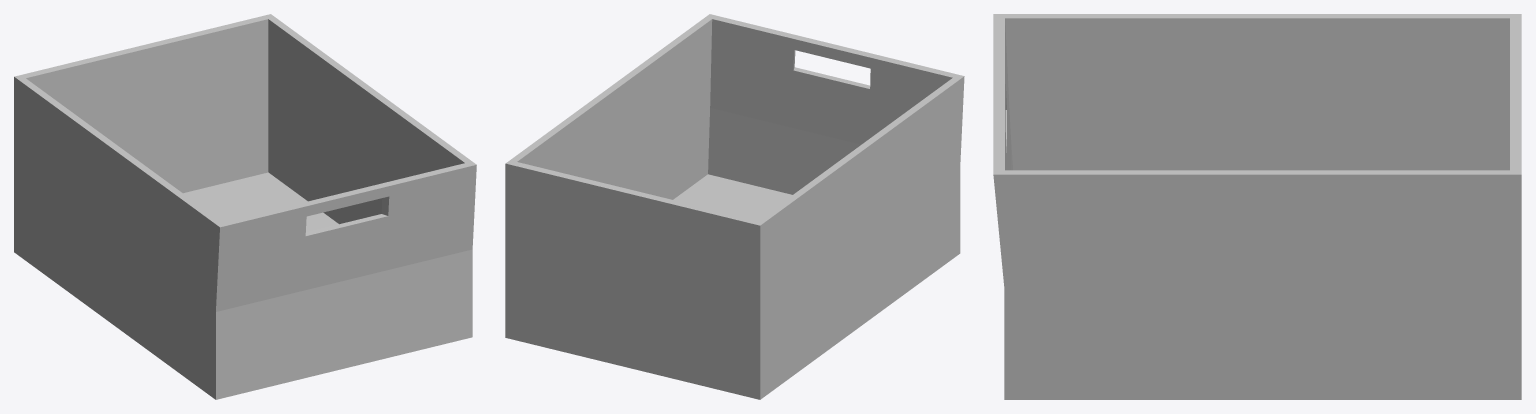
Rendered from Fridge_Freezer_Storage.fbx.
3 views of the same model, side by side, from view 1: azimuth 30°, elevation 25°; view 2: azimuth 150°, elevation 25°; view 3: azimuth 270°, elevation 25° (orthographic). The views are drawn at different scales.
Visible parts, largest first — view 1: Cube.128; view 2: Cube.128; view 3: Cube.128.
Boxes of the visible parts, x1,y1,x2,y2 form: Cube.128: [14, 14, 476, 399]; Cube.128: [505, 14, 964, 399]; Cube.128: [993, 14, 1521, 399].
Bounding box in the file's own units: 49.77 × 32.54 × 69.15.
